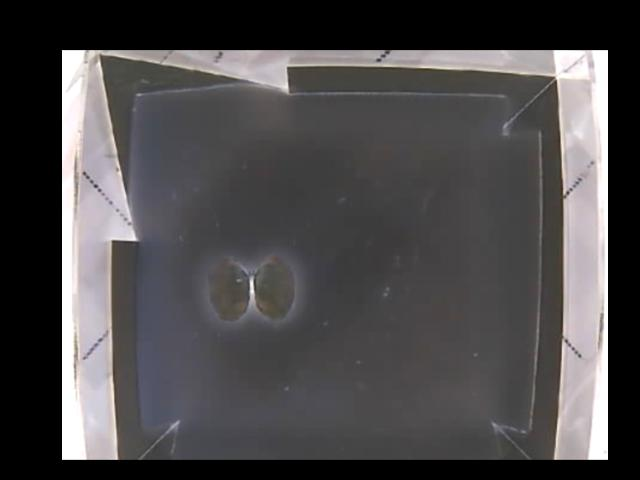Shell: (206, 255, 294, 323)
